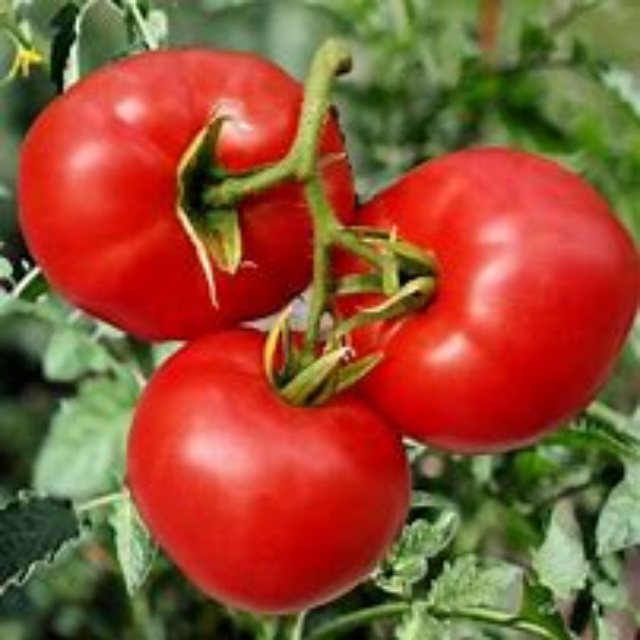tomato: (20, 51, 355, 337), (341, 147, 639, 461), (128, 329, 422, 614)
